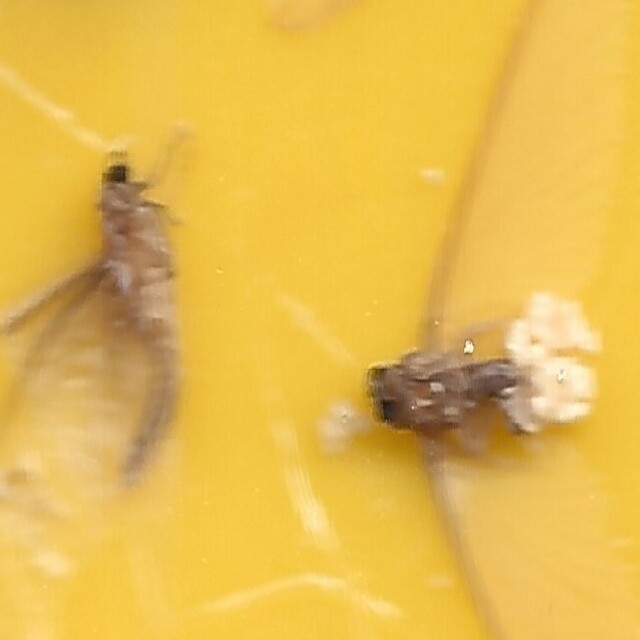Ephemeroptera: (100, 146, 180, 494), (362, 344, 540, 437)
